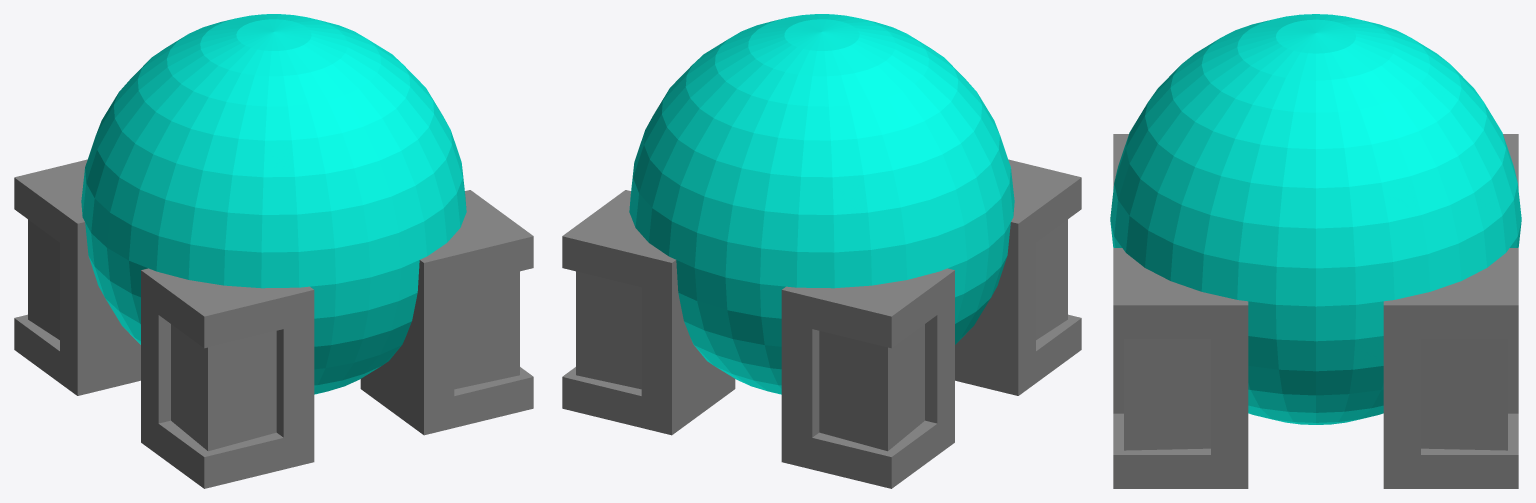
The model's file is CyborgFacility_Generator_001.fbx.
3 views of the same model, side by side, from view 1: azimuth 30°, elevation 25°; view 2: azimuth 150°, elevation 25°; view 3: azimuth 270°, elevation 25° (orthographic). The views are drawn at different scales.
Parts seen in each view (by area): view 1: Sphere; view 2: Sphere; view 3: Sphere.
Boxes of the visible parts, x1=… form: Sphere: x1=14, y1=14, x2=533, y2=488; Sphere: x1=562, y1=14, x2=1081, y2=488; Sphere: x1=1110, y1=14, x2=1521, y2=488.
Bounding box in the file's own units: 609 × 609 × 609.
1 material, 1 textured.
